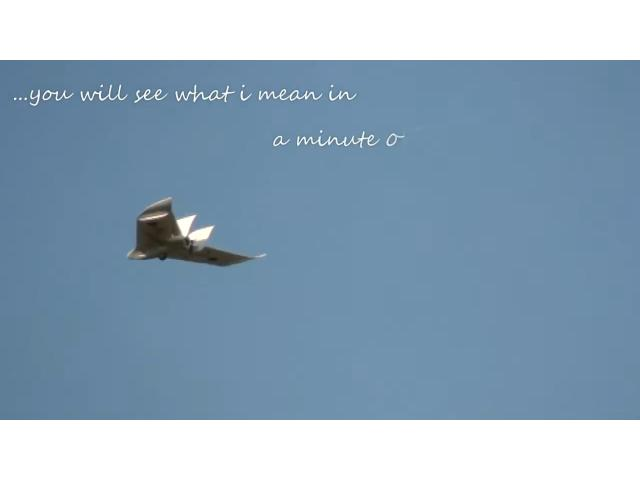Anti-Drone: (128, 198, 262, 266)
